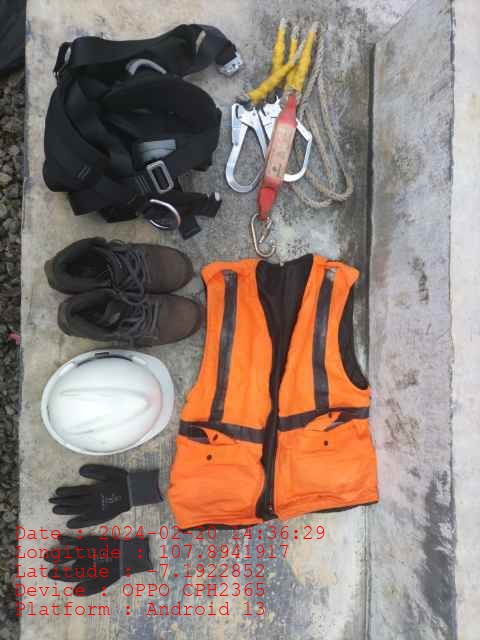HELM: (41, 349, 175, 456)
ROMPI: (197, 256, 364, 527)
SEPATU: (39, 237, 202, 346)
TAMBANG_SLING: (225, 17, 354, 234)
